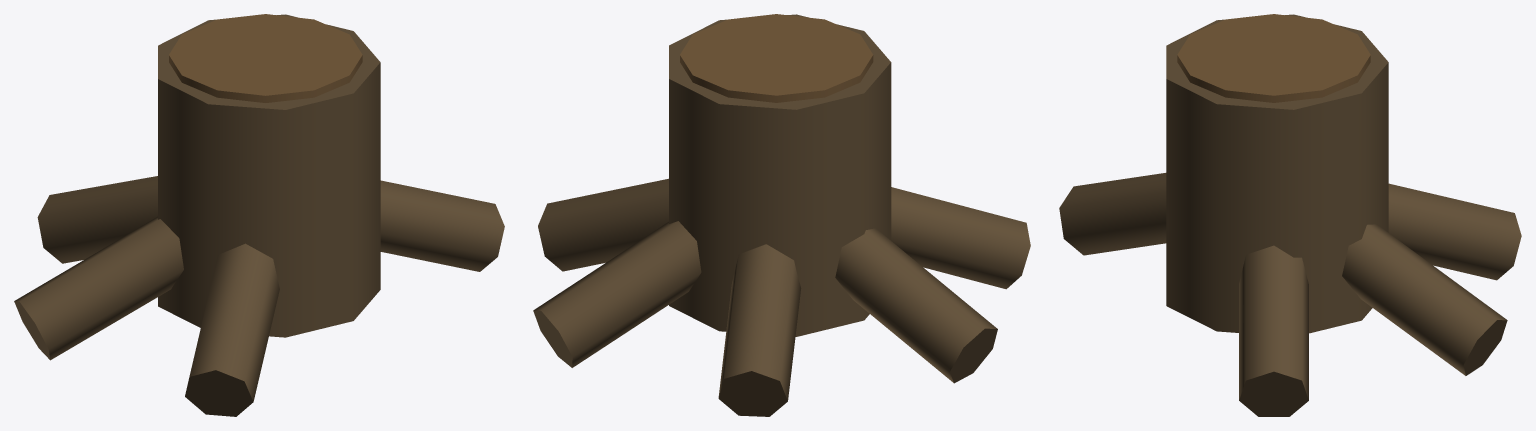
File: stump.glb
3 views of the same model, side by side, from view 1: azimuth 30°, elevation 25°; view 2: azimuth 150°, elevation 25°; view 3: azimuth 270°, elevation 25° (orthographic).
Parts seen in each view (by area): view 1: Bark, Timber; view 2: Bark, Timber; view 3: Bark, Timber.
Boxes of the visible parts, x1=… form: Bark: x1=14, y1=14, x2=504, y2=416; Timber: x1=169, y1=14, x2=362, y2=102; Bark: x1=533, y1=14, x2=1030, y2=416; Timber: x1=680, y1=14, x2=873, y2=102; Bark: x1=1059, y1=14, x2=1521, y2=416; Timber: x1=1177, y1=14, x2=1370, y2=102.
Bounding box in the file's own units: 1.47 × 0.8053 × 1.29.
